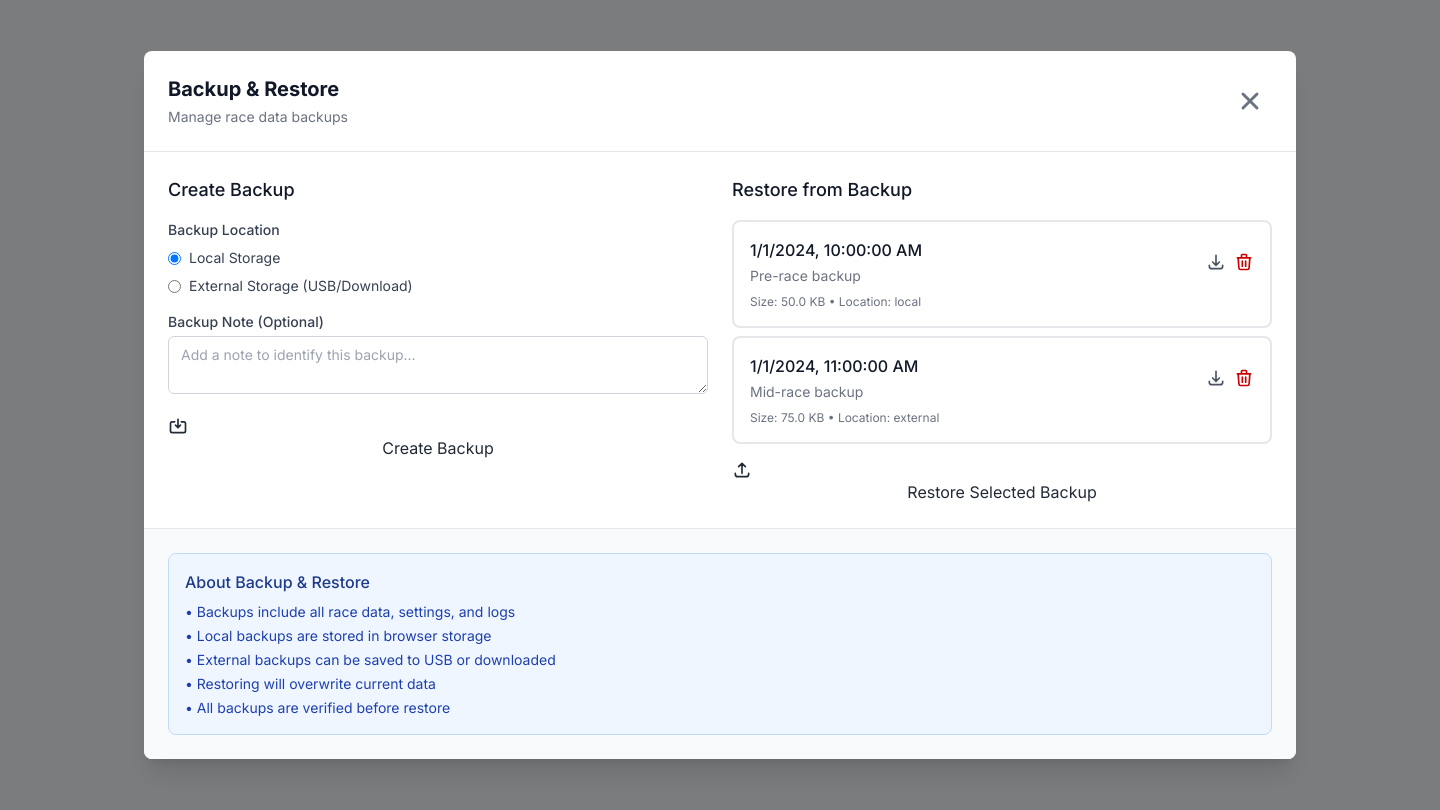
BackupRestoreDialog › handles errors during restore
Select a backup
Click the text "Pre-race backup" at point(805, 276), box [750,267,861,284]
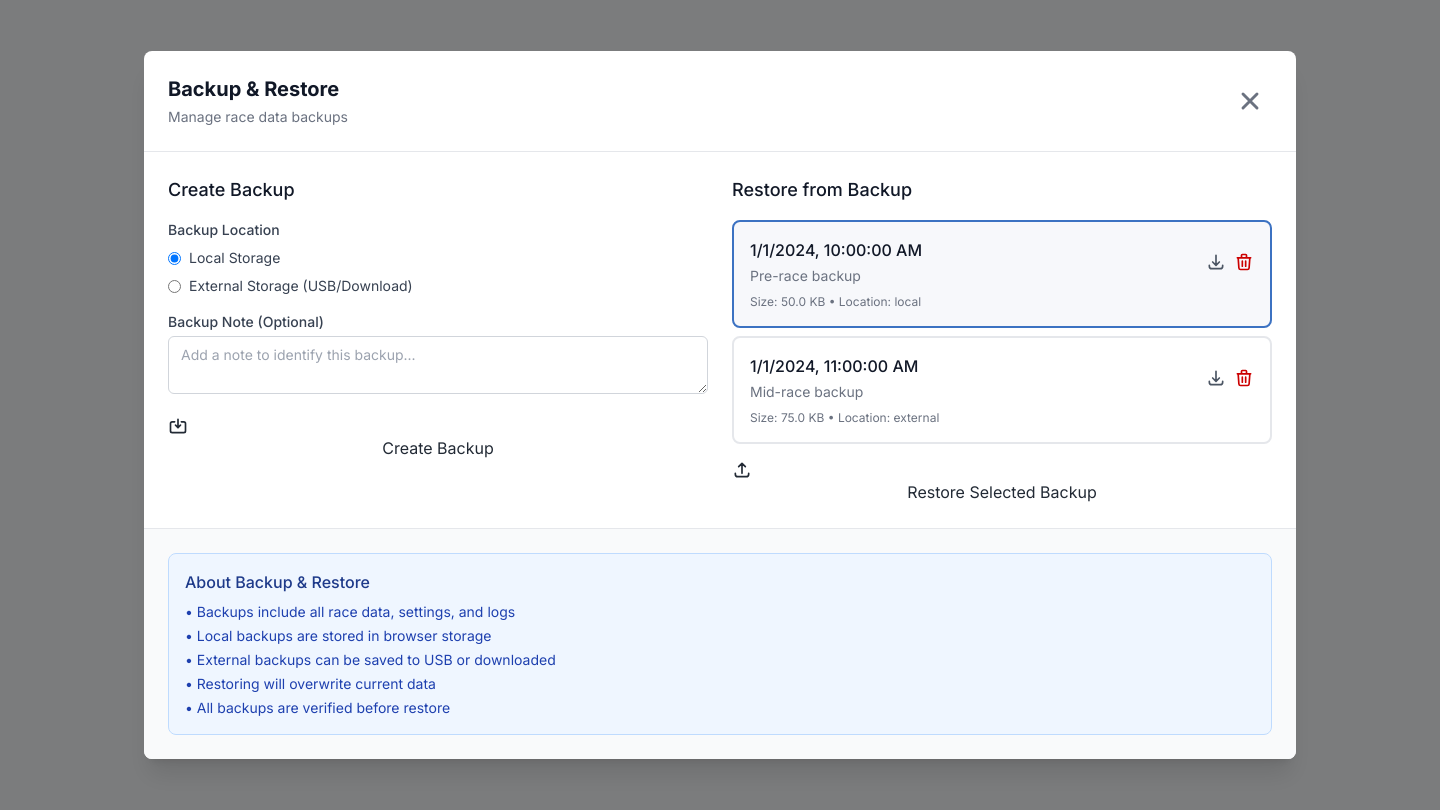
Click restore — opens ConfirmModal
Click the button "Restore Selected Backup" at point(1002, 482), box [732,460,1272,504]
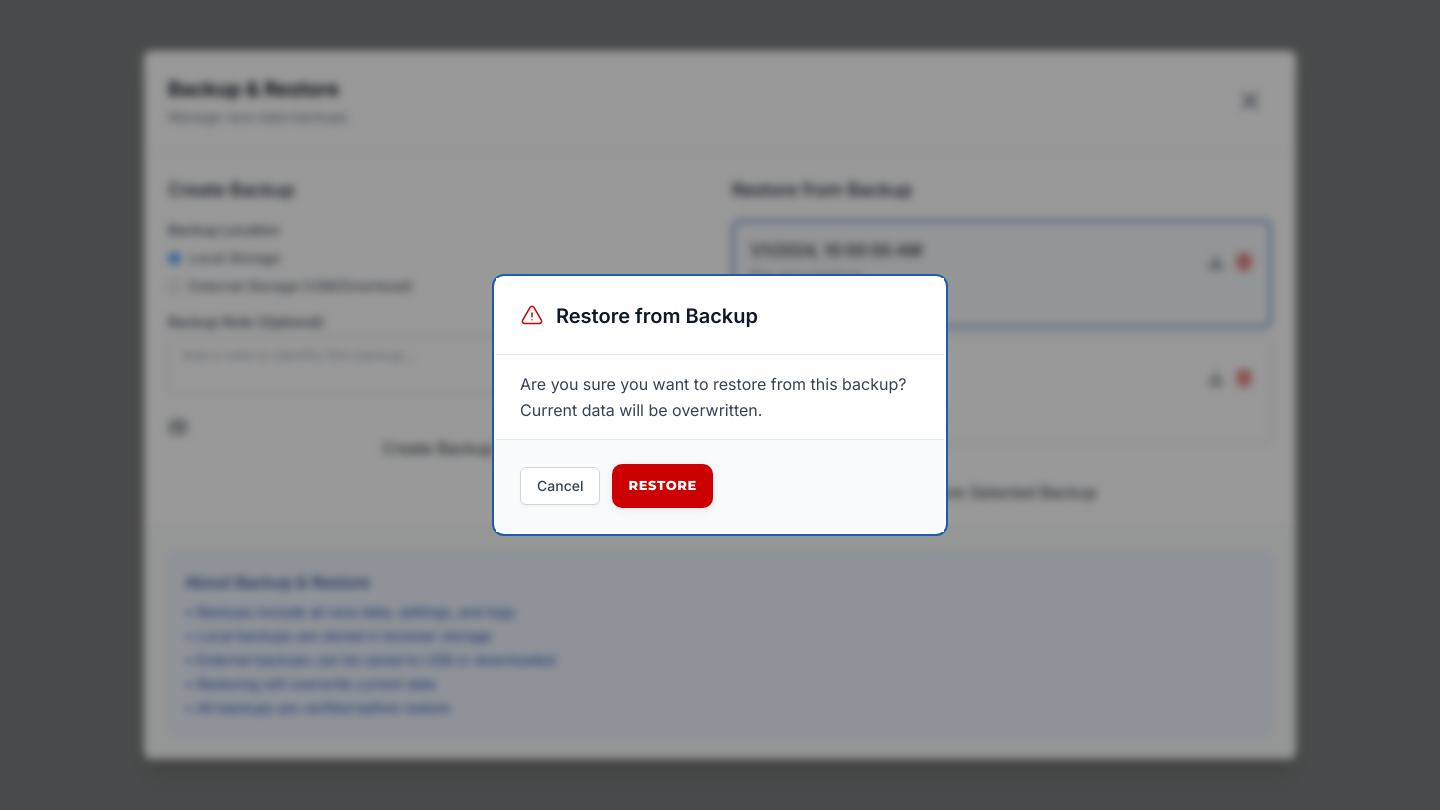
Confirm in ConfirmModal
Click the button "Restore" at point(663, 486), box [612,464,713,508]
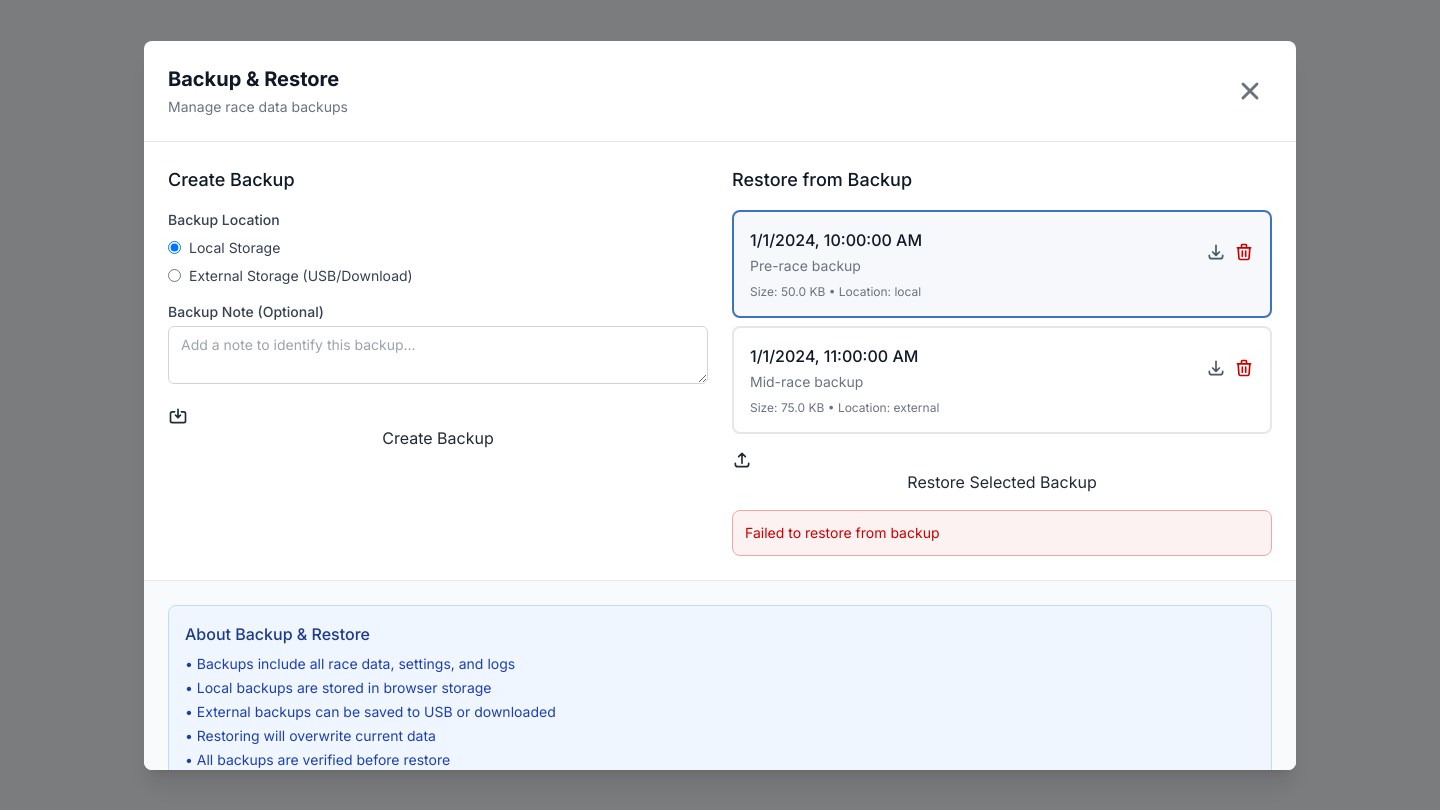
Result: the text "Failed to restore from backup" is shown at [745,524,940,540]
